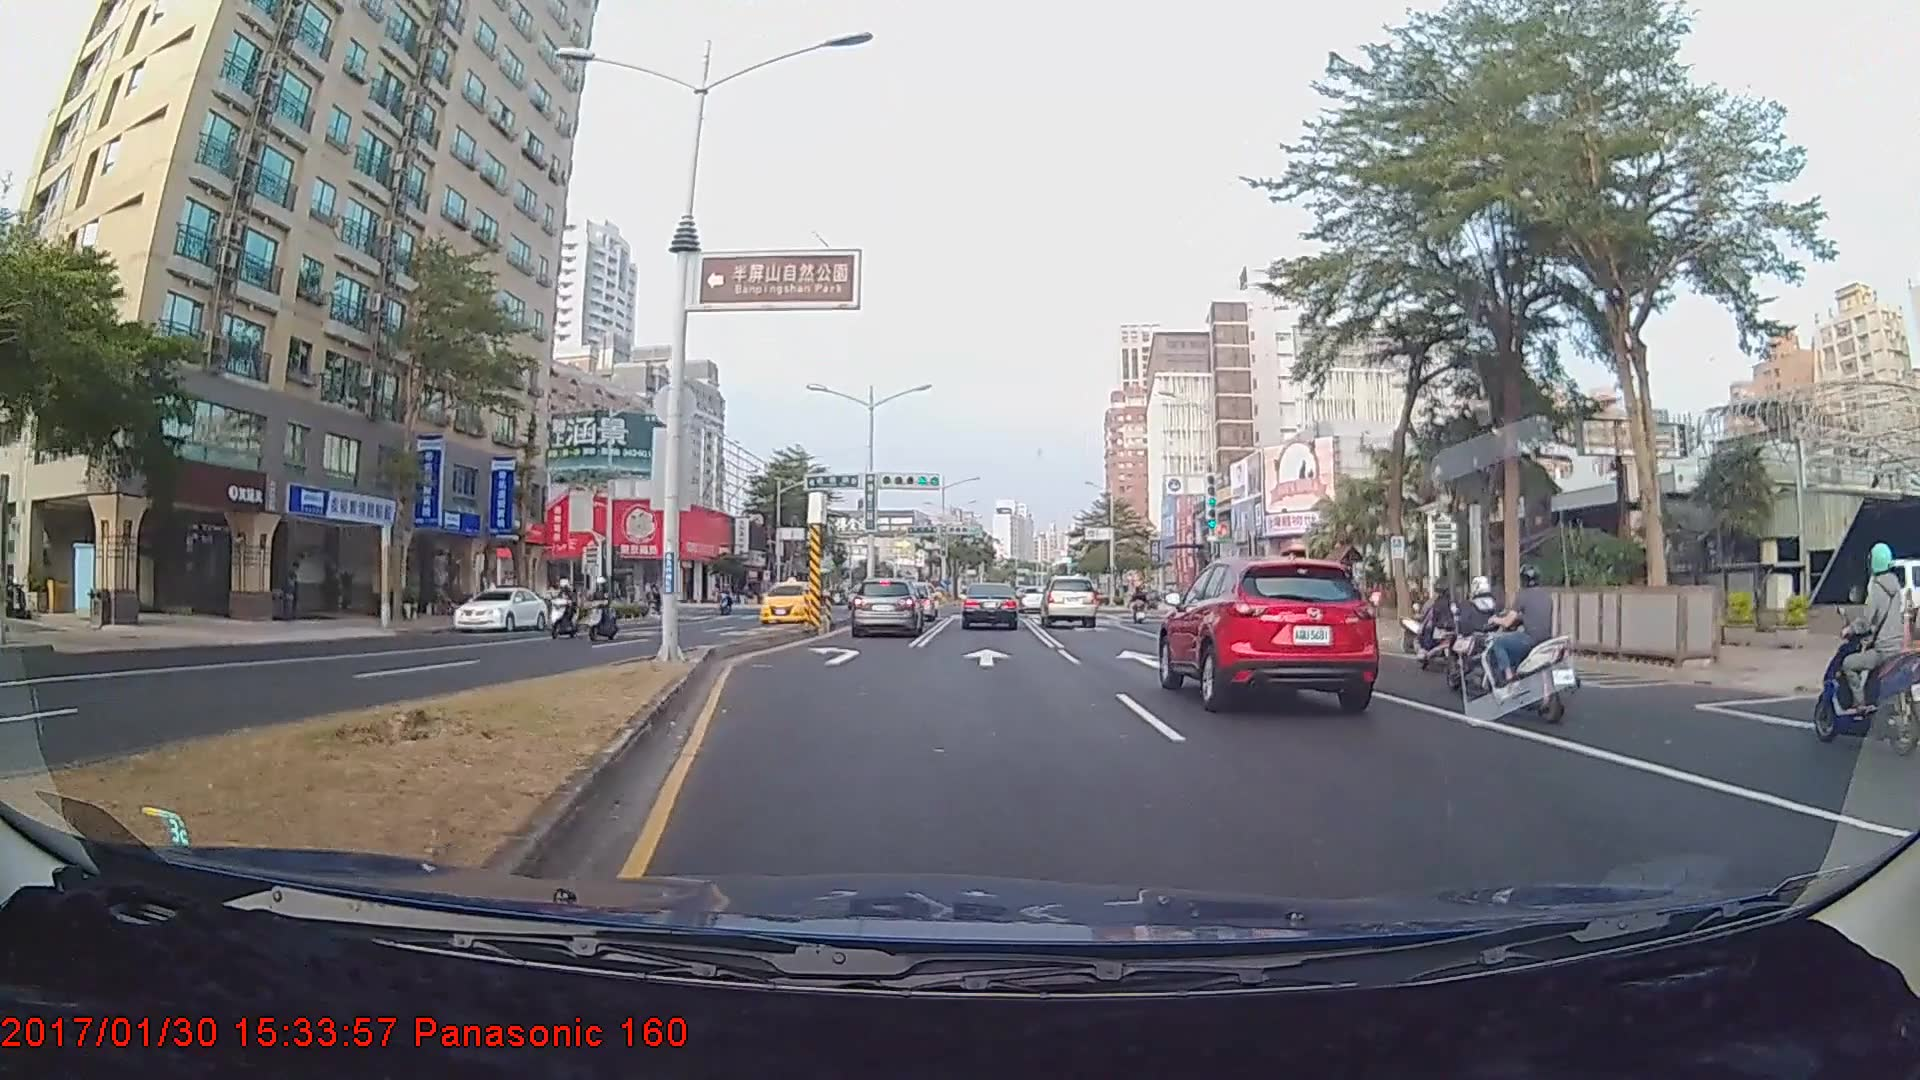rider: (1815, 534, 1919, 767), (1484, 564, 1593, 725), (1442, 569, 1515, 692), (1412, 574, 1469, 673), (580, 576, 621, 644), (547, 576, 585, 642)
vehicle: (1163, 554, 1377, 709), (1863, 560, 1920, 642), (453, 584, 546, 631), (850, 578, 923, 637), (1039, 574, 1099, 629), (961, 581, 1019, 632), (755, 582, 819, 624)
